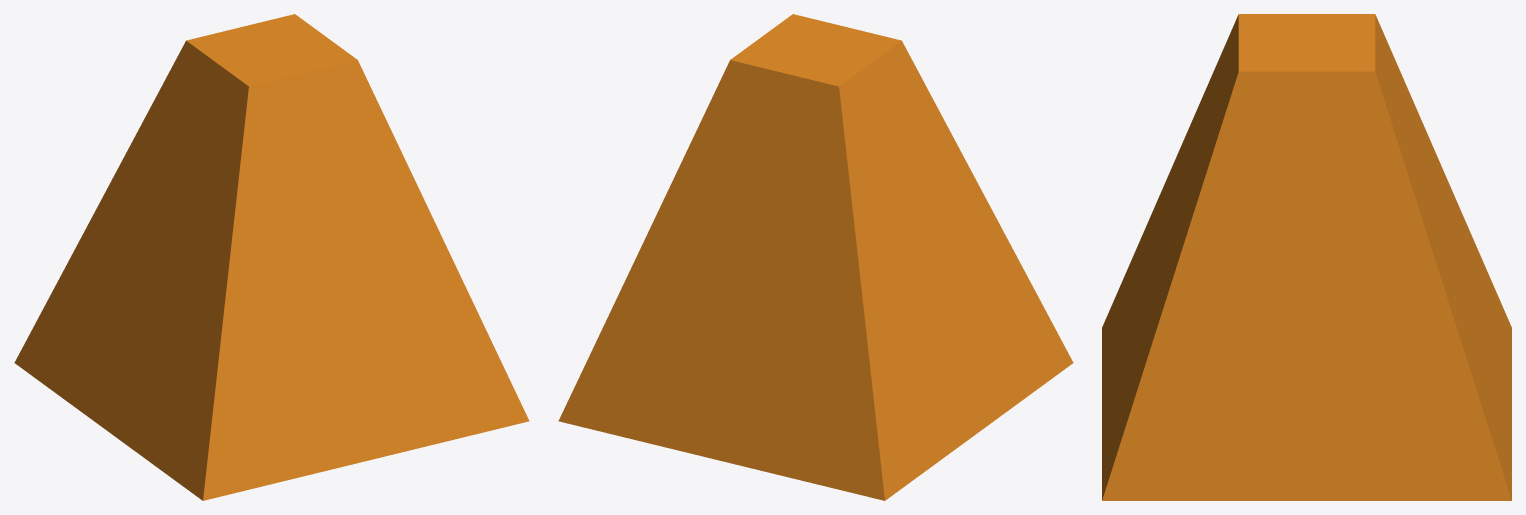
File: thruster.glb
3 views of the same model, side by side, from view 1: azimuth 30°, elevation 25°; view 2: azimuth 150°, elevation 25°; view 3: azimuth 270°, elevation 25° (orthographic). The views are drawn at different scales.
Parts seen in each view (by area): view 1: Cube.026; view 2: Cube.026; view 3: Cube.026.
Part boxes in pixels (x1,y1,x2,y2): Cube.026: (14,14,529,500); Cube.026: (558,14,1073,500); Cube.026: (1102,14,1511,500).
Size of the model in its own units: 2.4 by 2.4 by 2.4.
